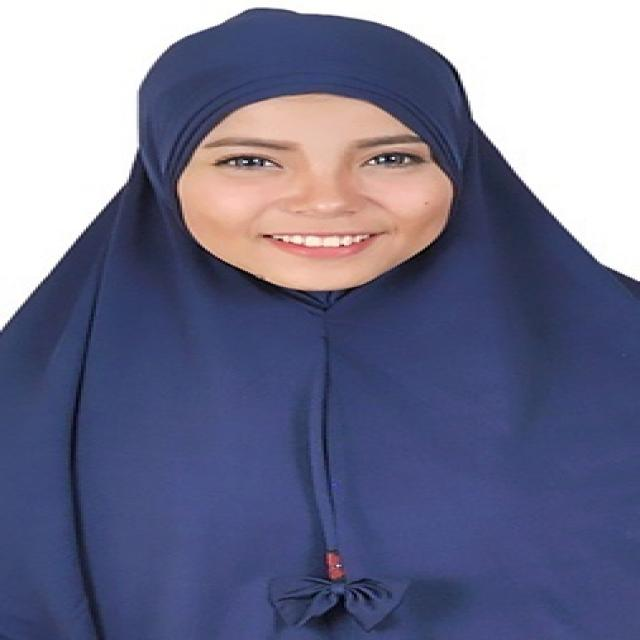head: (141, 16, 496, 302)
